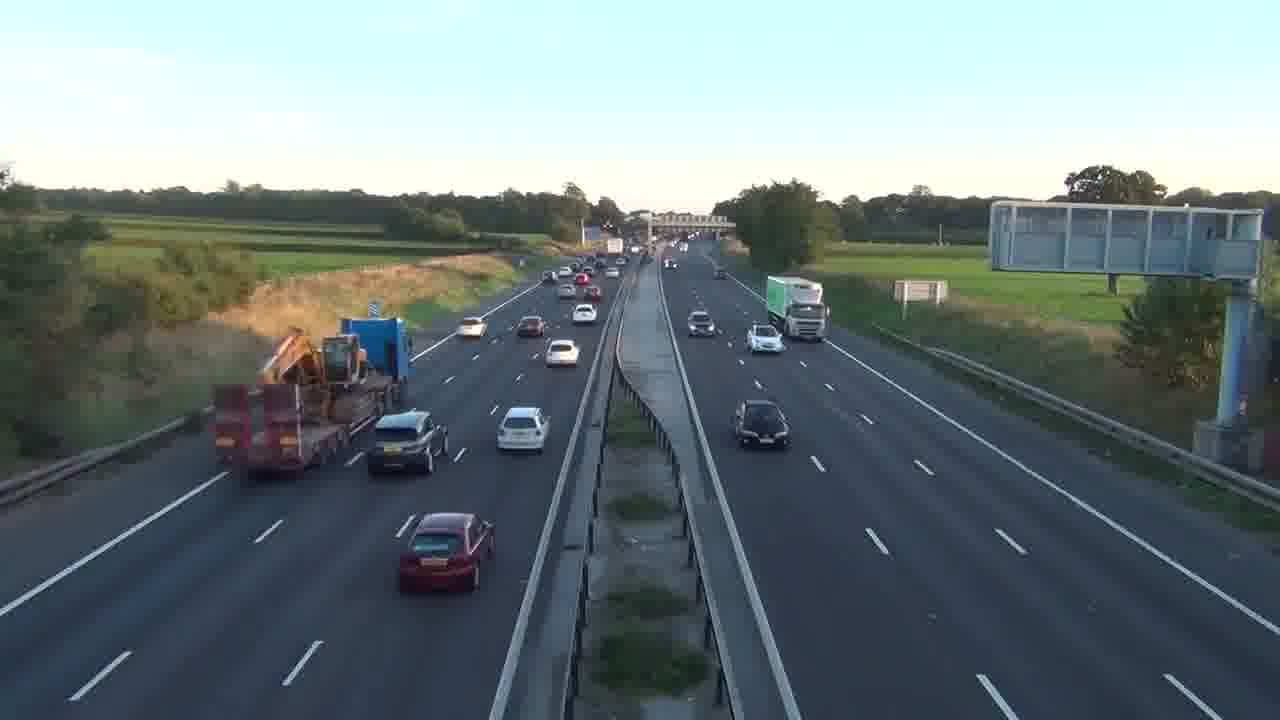car: (394, 511, 497, 594), (732, 398, 792, 449), (496, 405, 550, 453), (746, 324, 785, 353), (545, 339, 580, 368), (515, 315, 546, 339), (572, 302, 597, 324)
truck: (366, 408, 449, 476), (766, 274, 831, 343), (765, 275, 829, 343)
